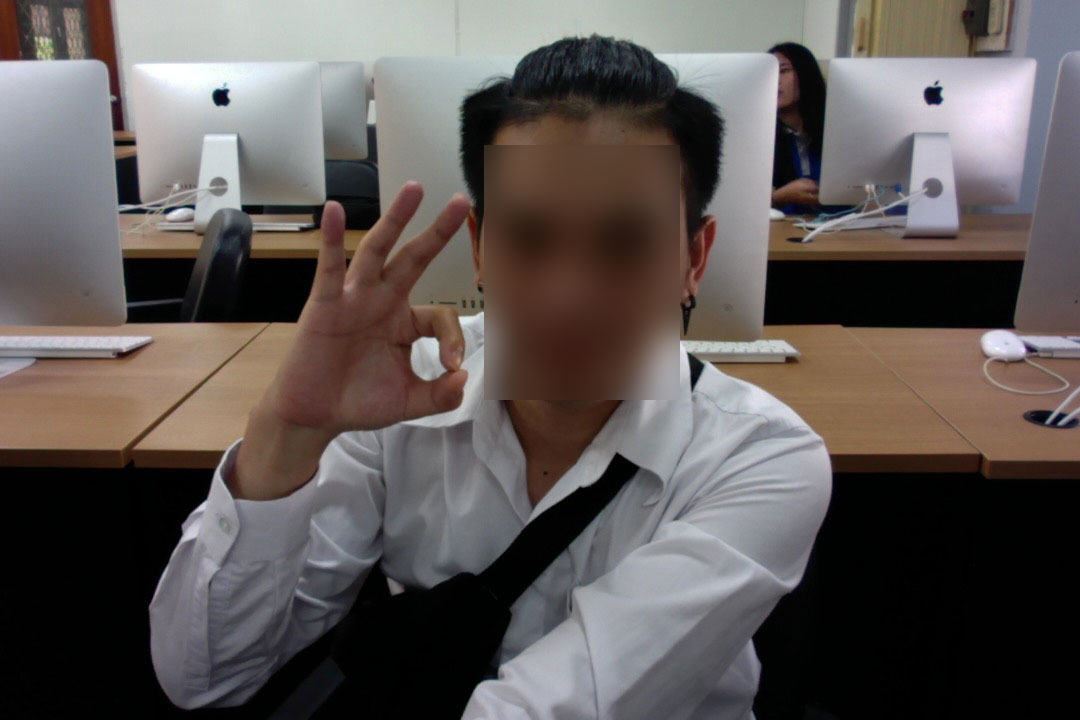for: (262, 133, 481, 474)
